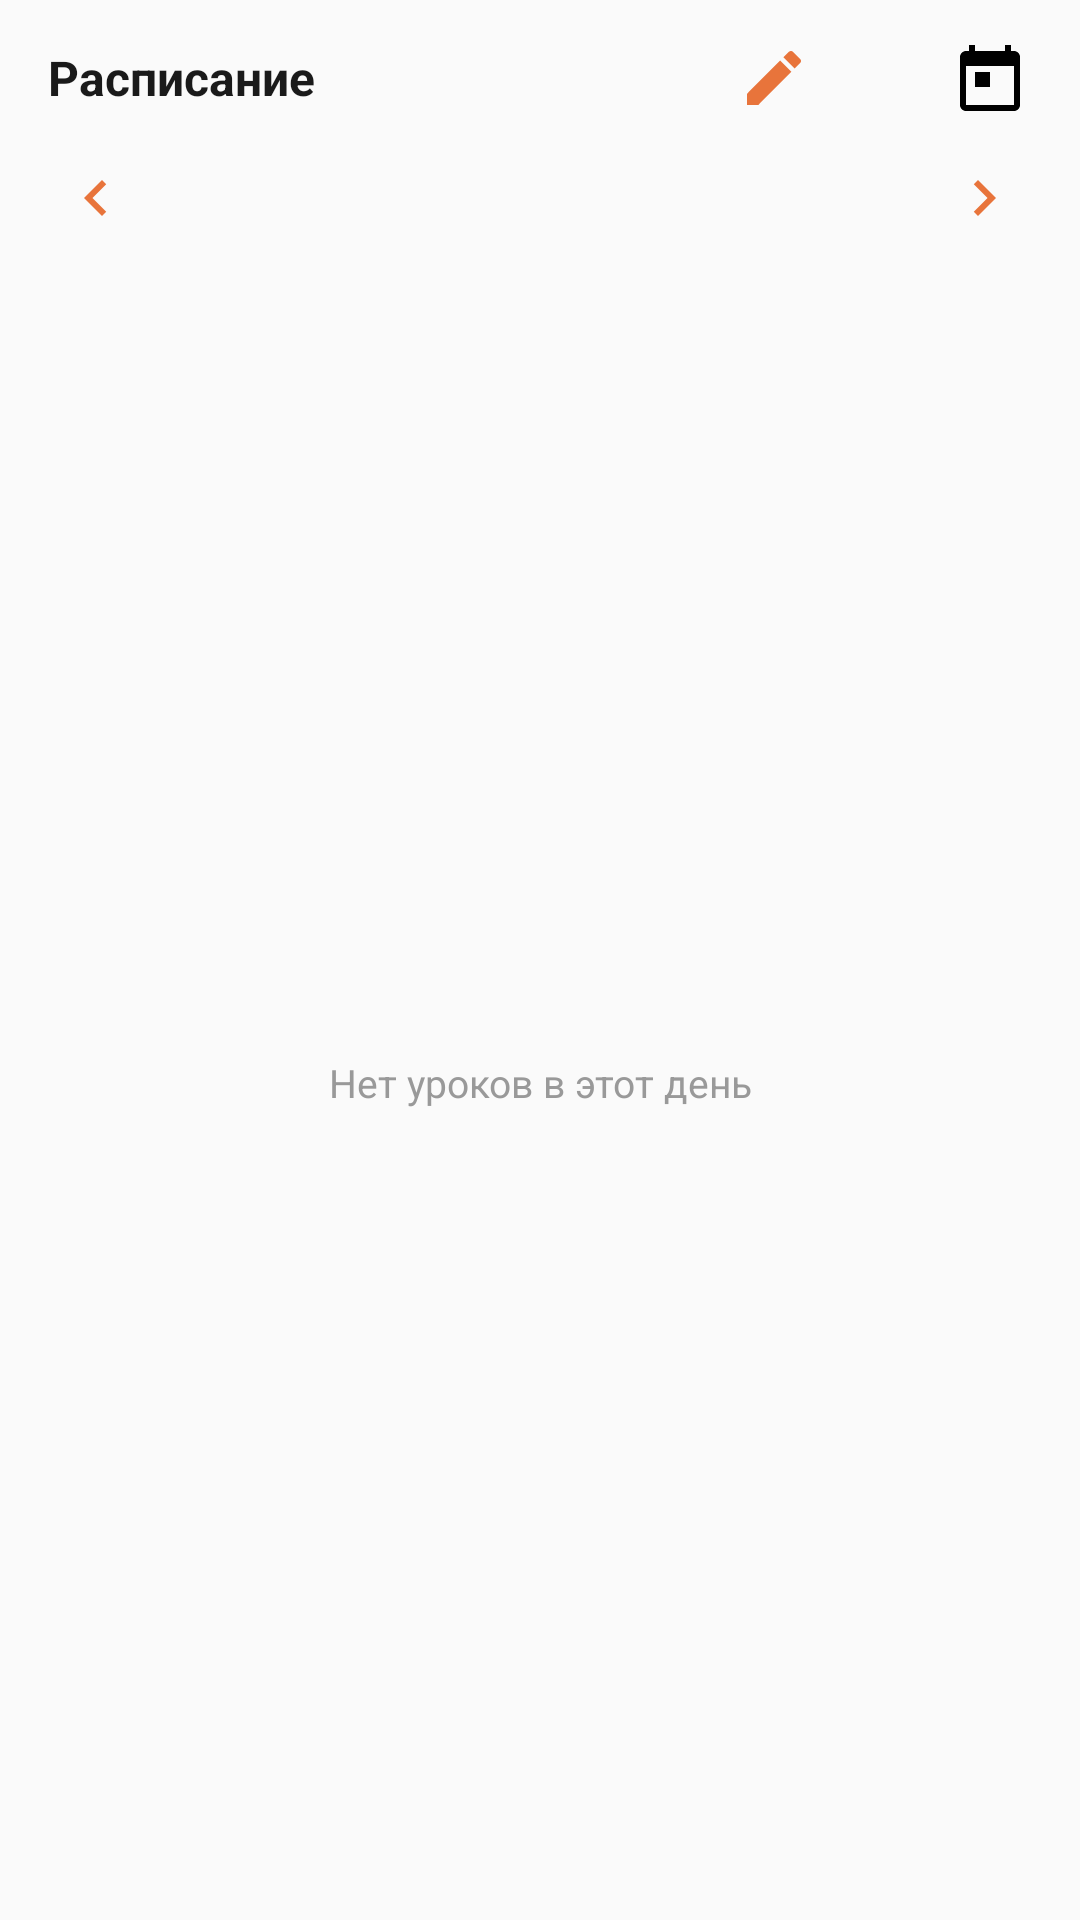

Icons on this 1080×1920 Android screen, each with its box as {"left": x1, "top": y1, "right": x2, "bottom": y2}:
Календарь: {"left": 960, "top": 45, "right": 1020, "bottom": 111}
Предыдущий день: {"left": 84, "top": 180, "right": 106, "bottom": 216}
Редактировать день: {"left": 747, "top": 51, "right": 801, "bottom": 105}
Следующий день: {"left": 974, "top": 180, "right": 996, "bottom": 216}
